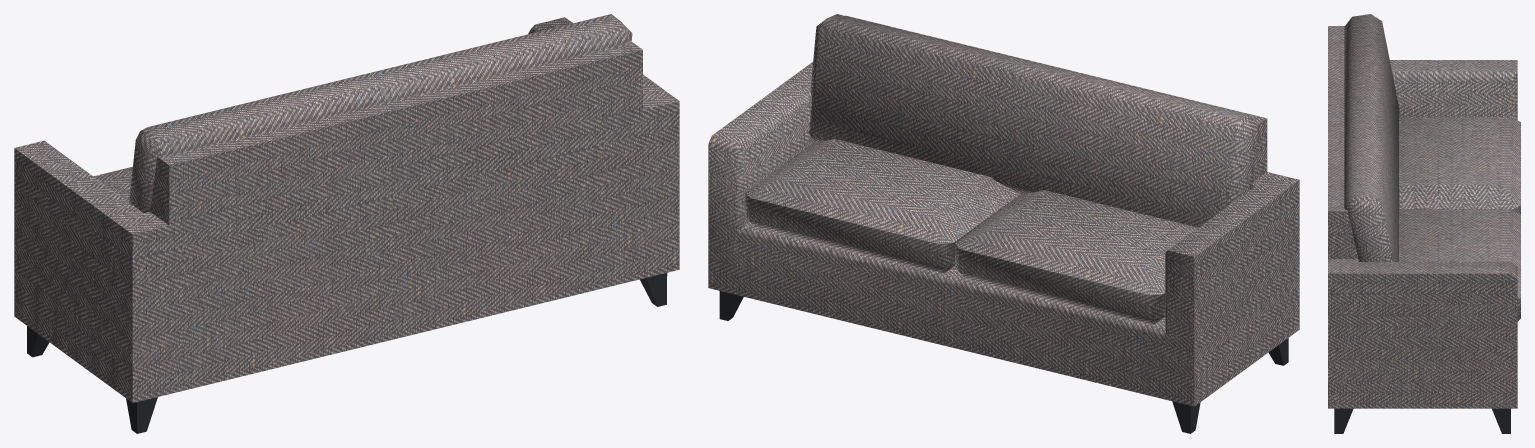
Rendered from Armchair_15-col.glb.
3 renders of one model, left to right at view 1: azimuth 30°, elevation 25°; view 2: azimuth 150°, elevation 25°; view 3: azimuth 270°, elevation 25°, orthographic. The views are drawn at different scales.
Visible parts, largest first — view 1: Armchair_15-col; view 2: Armchair_15-col; view 3: Armchair_15-col.
Part boxes in pixels (<box>): Armchair_15-col: <box>14,14,679,433</box>; Armchair_15-col: <box>708,14,1299,433</box>; Armchair_15-col: <box>1328,14,1520,433</box>.
Bounding box in the file's own units: 2.38 × 1.18 × 0.9096.
2 materials, 2 textured.
